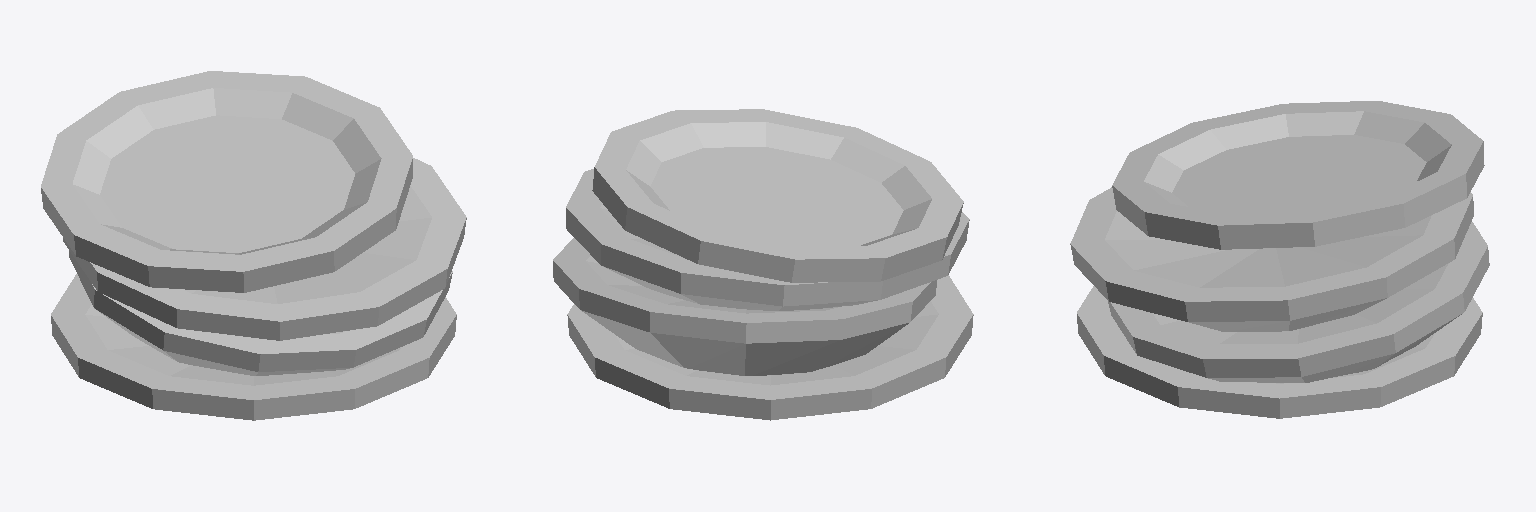
Rendered from plate_stack.obj.
3 renders of one model, left to right at view 1: azimuth 30°, elevation 25°; view 2: azimuth 150°, elevation 25°; view 3: azimuth 270°, elevation 25°, orthographic.
Visible parts, largest first — view 1: plate_stack; view 2: plate_stack; view 3: plate_stack.
Part boxes in pixels (left/top/right/bottom): plate_stack: left=41, top=71, right=466, bottom=420; plate_stack: left=553, top=109, right=973, bottom=420; plate_stack: left=1070, top=101, right=1489, bottom=418.
Bounding box in the file's own units: 0.9971 × 0.5639 × 1.